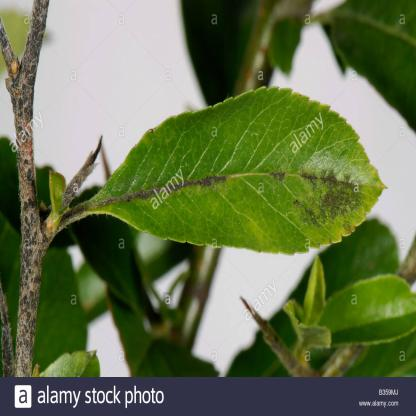apple scab leaf: (78, 77, 387, 271)
